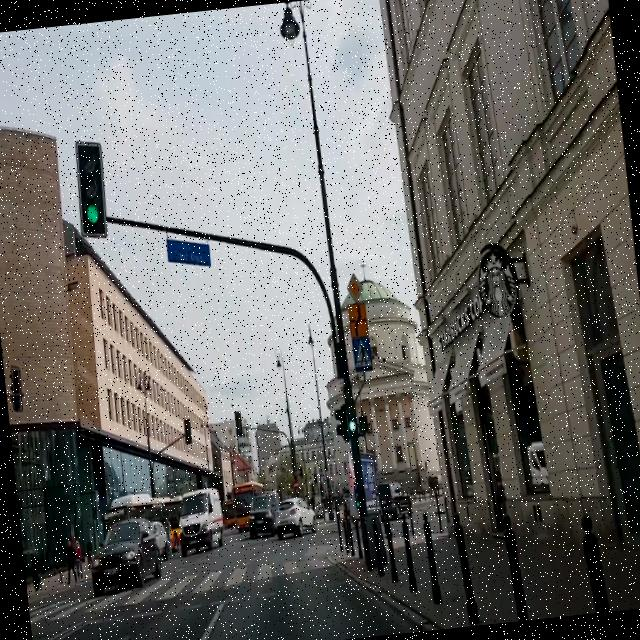Droga z pierwszenstwem: (344, 270, 364, 304)
Przejscie dla pieszych: (351, 336, 374, 374)
